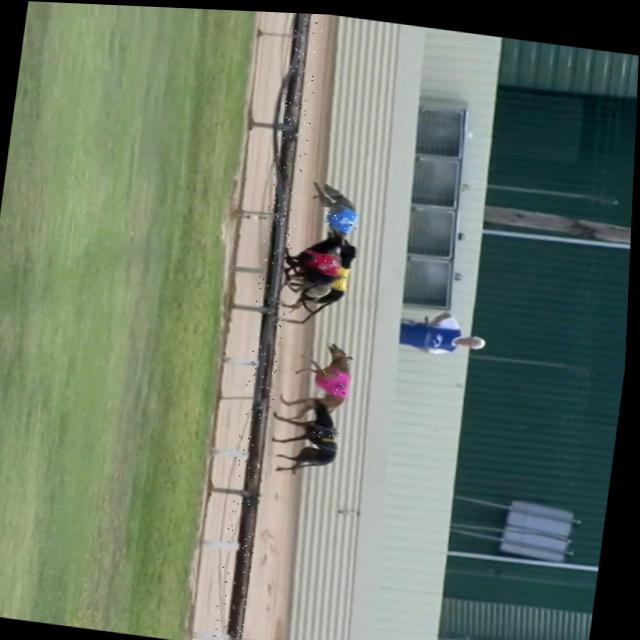dog_eight: (316, 367, 353, 393)
dog_five: (328, 263, 349, 287)
dog_four: (325, 206, 360, 228)
dog_one: (309, 250, 343, 272)
dog_seven: (307, 422, 345, 443)
rail: (228, 10, 308, 640)
